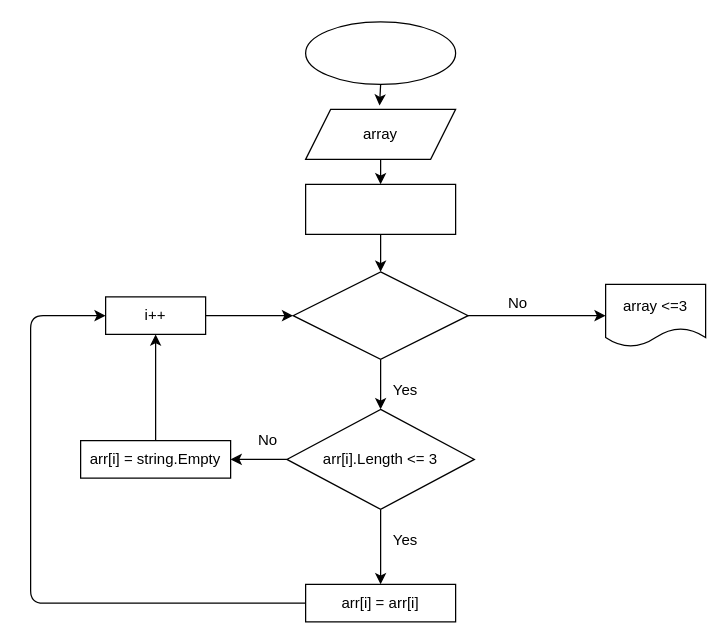
This 728x644 diagram has some shape labels left out. Here are the shapes that lost their labels. From the top down, the centre of each, then its label:
At point (380, 52): "start".
At point (380, 208): "arr[i]".
At point (380, 315): "i < array.Length".
